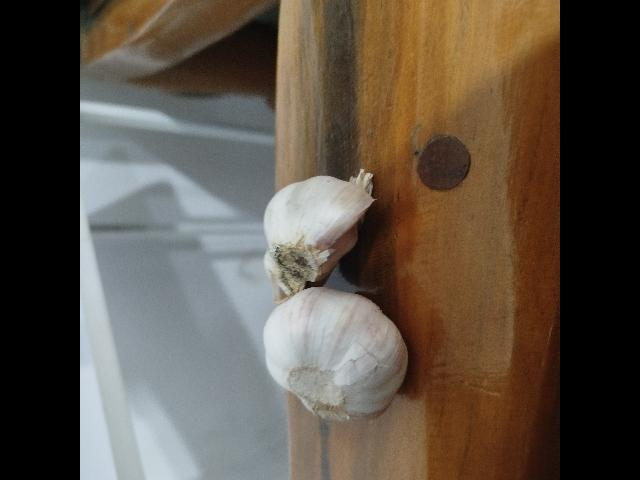garlic: (263, 286, 409, 420), (262, 168, 376, 300)
